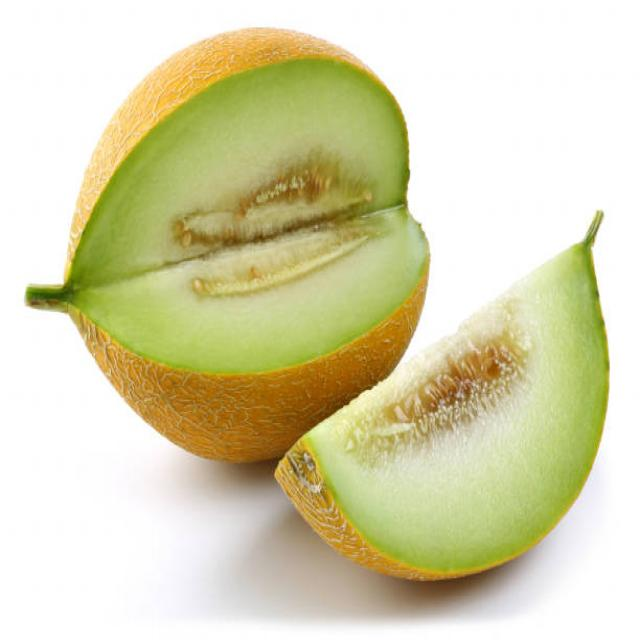melon: (39, 16, 390, 392), (379, 210, 620, 592)
